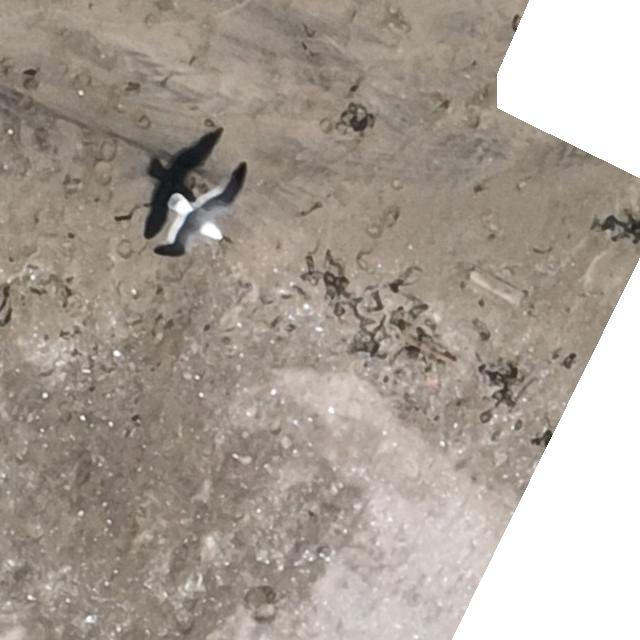F: (172, 179, 239, 250)
